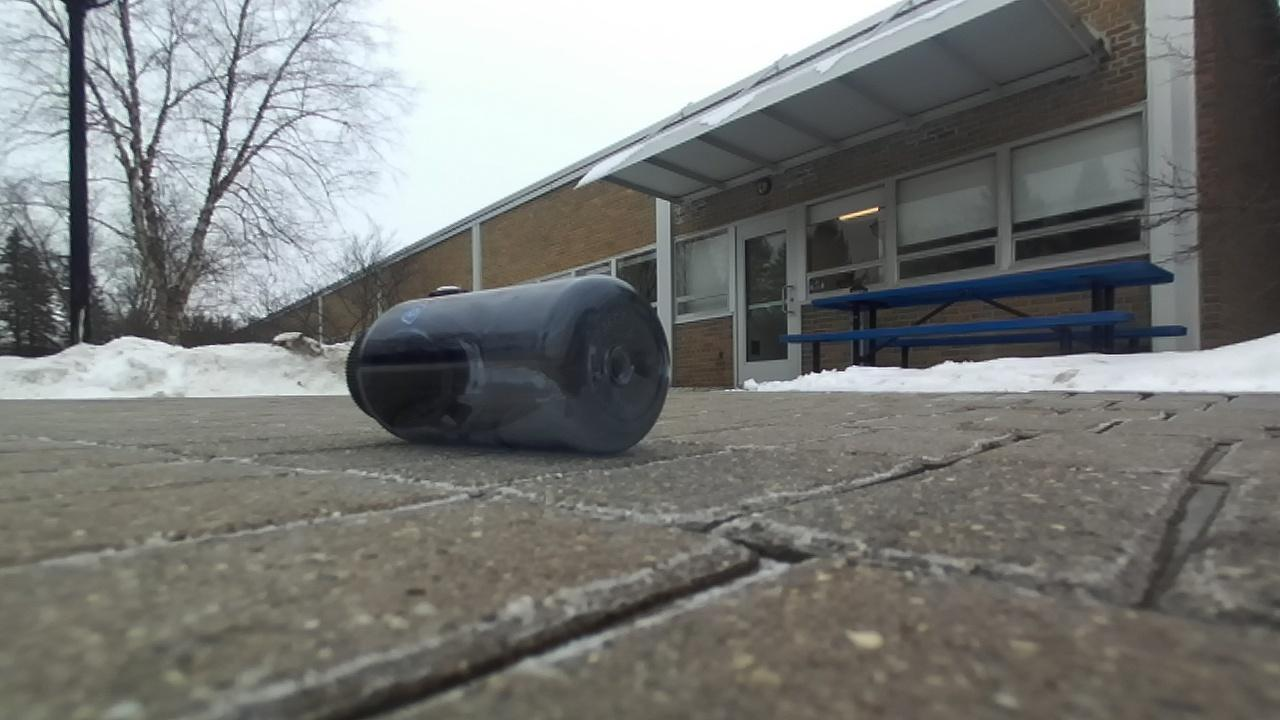bottle: (347, 276, 670, 453)
